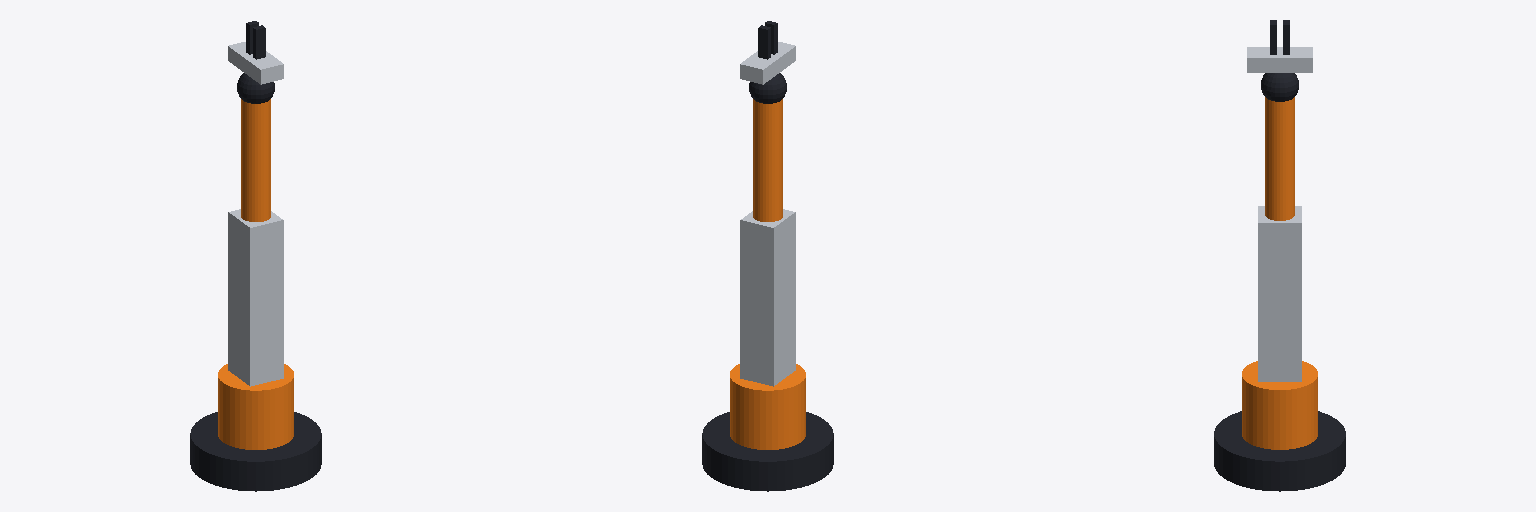
The robot description file, URDF, robot "demo_arm":
<?xml version="1.0"?>
<robot name="demo_arm">
  <material name="dark"><color rgba="0.18 0.19 0.22 1"/></material>
  <material name="orange"><color rgba="1.0 0.55 0.15 1"/></material>
  <material name="light"><color rgba="0.82 0.84 0.87 1"/></material>

  <link name="base_link">
    <inertial><origin xyz="0 0 0.03"/><mass value="3"/><inertia ixx="0.012" ixy="0" ixz="0" iyy="0.012" iyz="0" izz="0.022"/></inertial>
    <visual><geometry><mesh filename="package://demo_arm/meshes/base.stl"/></geometry><material name="dark"/></visual>
    <collision><origin xyz="0 0 0.03"/><geometry><cylinder radius="0.12" length="0.06"/></geometry></collision>
  </link>

  <joint name="shoulder_pan" type="revolute">
    <origin xyz="0 0 0.06" rpy="0 0 0"/>
    <parent link="base_link"/><child link="shoulder_link"/>
    <axis xyz="0 0 1"/>
    <limit lower="-2.9" upper="2.9" effort="80" velocity="1.5"/>
    <dynamics damping="0.5" friction="0.1"/>
  </joint>
  <link name="shoulder_link">
    <inertial><origin xyz="0 0 0.06"/><mass value="2"/><inertia ixx="0.005" ixy="0" ixz="0" iyy="0.005" iyz="0" izz="0.005"/></inertial>
    <visual><geometry><mesh filename="package://demo_arm/meshes/shoulder.stl"/></geometry><material name="orange"/></visual>
    <collision><origin xyz="0 0 0.06"/><geometry><cylinder radius="0.07" length="0.12"/></geometry></collision>
  </link>

  <joint name="shoulder_lift" type="revolute">
    <origin xyz="0 0 0.12" rpy="0 0 0"/>
    <parent link="shoulder_link"/><child link="upper_arm"/>
    <axis xyz="0 1 0"/>
    <limit lower="-1.8" upper="1.8" effort="60" velocity="1.2"/>
  </joint>
  <link name="upper_arm">
    <inertial><origin xyz="0 0 0.16"/><mass value="1.5"/><inertia ixx="0.013" ixy="0" ixz="0" iyy="0.013" iyz="0" izz="0.002"/></inertial>
    <visual><geometry><mesh filename="package://demo_arm/meshes/upper_arm.stl"/></geometry><material name="light"/></visual>
    <collision><origin xyz="0 0 0.16"/><geometry><box size="0.07 0.08 0.32"/></geometry></collision>
  </link>

  <joint name="elbow" type="revolute">
    <origin xyz="0 0 0.32" rpy="0 0 0"/>
    <parent link="upper_arm"/><child link="forearm"/>
    <axis xyz="0 1 0"/>
    <limit lower="-2.4" upper="2.4" effort="40" velocity="1.5"/>
  </joint>
  <link name="forearm">
    <inertial><origin xyz="0 0 0.13"/><mass value="1"/><inertia ixx="0.006" ixy="0" ixz="0" iyy="0.006" iyz="0" izz="0.001"/></inertial>
    <visual><geometry><mesh filename="package://demo_arm/meshes/forearm.dae" scale="0.001 0.001 0.001"/></geometry><material name="orange"/></visual>
    <collision><origin xyz="0 0 0.13"/><geometry><cylinder radius="0.03" length="0.26"/></geometry></collision>
  </link>

  <joint name="wrist_pitch" type="revolute">
    <origin xyz="0 0 0.26" rpy="0 0 0"/>
    <parent link="forearm"/><child link="wrist"/>
    <axis xyz="0 1 0"/>
    <limit lower="-2" upper="2" effort="10" velocity="2"/>
  </joint>
  <link name="wrist">
    <inertial><mass value="0.3"/><inertia ixx="0.0002" ixy="0" ixz="0" iyy="0.0002" iyz="0" izz="0.0002"/></inertial>
    <visual><geometry><mesh filename="../meshes/wrist.obj"/></geometry><material name="dark"/></visual>
    <collision><geometry><sphere radius="0.035"/></geometry></collision>
  </link>

  <joint name="wrist_roll" type="continuous">
    <origin xyz="0 0 0.035" rpy="0 0 0"/>
    <parent link="wrist"/><child link="gripper"/>
    <axis xyz="0 0 1"/>
    <limit effort="5" velocity="3"/>
  </joint>
  <link name="gripper">
    <inertial><origin xyz="0 0 0.015"/><mass value="0.2"/><inertia ixx="0.0002" ixy="0" ixz="0" iyy="0.0001" iyz="0" izz="0.0002"/></inertial>
    <visual><geometry><mesh filename="package://demo_arm/meshes/palm.stl"/></geometry><material name="light"/></visual>
    <collision><origin xyz="0 0 0.015"/><geometry><box size="0.05 0.12 0.03"/></geometry></collision>
  </link>

  <joint name="finger_left_joint" type="prismatic">
    <origin xyz="0 0.012 0.03" rpy="0 0 0"/>
    <parent link="gripper"/><child link="finger_left"/>
    <axis xyz="0 1 0"/>
    <limit lower="0" upper="0.04" effort="20" velocity="0.05"/>
  </joint>
  <link name="finger_left">
    <inertial><mass value="0.03"/><inertia ixx="1e-5" ixy="0" ixz="0" iyy="1e-5" iyz="0" izz="1e-5"/></inertial>
    <visual><geometry><mesh filename="package://demo_arm/meshes/finger.stl"/></geometry><material name="dark"/></visual>
  </link>
  <joint name="finger_right_joint" type="prismatic">
    <origin xyz="0 -0.012 0.03" rpy="0 0 0"/>
    <parent link="gripper"/><child link="finger_right"/>
    <axis xyz="0 1 0"/>
    <limit lower="-0.04" upper="0" effort="20" velocity="0.05"/>
    <mimic joint="finger_left_joint" multiplier="-1" offset="0"/>
  </joint>
  <link name="finger_right">
    <inertial><mass value="0.03"/><inertia ixx="1e-5" ixy="0" ixz="0" iyy="1e-5" iyz="0" izz="1e-5"/></inertial>
    <visual><geometry><mesh filename="package://demo_arm/meshes/finger.stl"/></geometry><material name="dark"/></visual>
  </link>

  <gazebo reference="base_link"><static>true</static></gazebo>
</robot>

--- Facts derived from the render (not from the file) ---
Views: 3 orthographic renders of the robot side by side, from view 1: azimuth 30°, elevation 25°; view 2: azimuth 150°, elevation 25°; view 3: azimuth 270°, elevation 25°.
Model demo_arm with 8 links and 7 joints (4 revolute, 1 continuous, 2 prismatic), rooted at base_link, posed every joint at zero.
Links seen in each view (by area): view 1: upper_arm, base_link, shoulder_link, forearm, gripper, wrist; view 2: upper_arm, base_link, shoulder_link, forearm, gripper, wrist; view 3: upper_arm, base_link, shoulder_link, forearm, gripper, wrist.
Link boxes in pixels (left/top/right/bottom): upper_arm: left=228, top=209, right=283, bottom=386; base_link: left=190, top=412, right=321, bottom=491; shoulder_link: left=218, top=364, right=293, bottom=449; forearm: left=241, top=99, right=270, bottom=221; gripper: left=228, top=42, right=283, bottom=84; wrist: left=237, top=73, right=274, bottom=103; upper_arm: left=740, top=209, right=795, bottom=386; base_link: left=702, top=412, right=833, bottom=491; shoulder_link: left=730, top=364, right=805, bottom=449; forearm: left=753, top=99, right=782, bottom=221; gripper: left=740, top=42, right=795, bottom=84; wrist: left=749, top=73, right=786, bottom=103; upper_arm: left=1258, top=206, right=1301, bottom=381; base_link: left=1214, top=411, right=1345, bottom=491; shoulder_link: left=1242, top=361, right=1317, bottom=449; forearm: left=1265, top=97, right=1294, bottom=220; gripper: left=1247, top=47, right=1312, bottom=72; wrist: left=1261, top=73, right=1298, bottom=101.
Size in the robot's own frame: 0.24 by 0.24 by 0.885 metres.
Meshes: 7 distinct files referenced, 8 mesh visuals loaded (5 binary STL, 1 Collada DAE, 1 OBJ).
